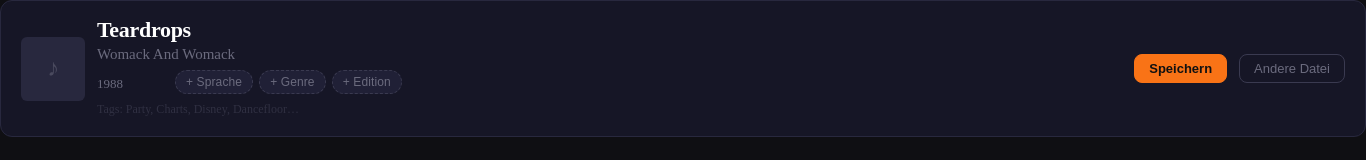
it: HeaderEditor › tooltips on tag editors (#10) › hides tooltip after mouse leaves
Hover over the element "+ Sprache" at (214, 82), box [175,70,253,94]
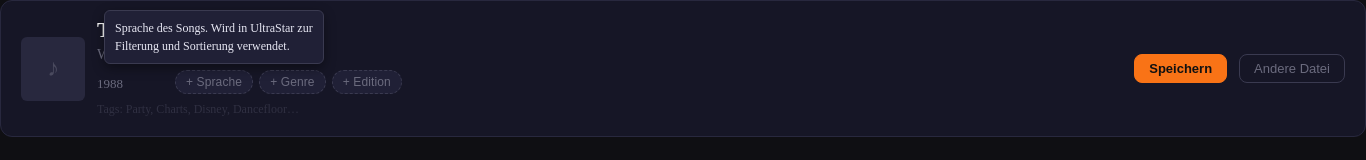
Result: the tooltip is shown at [104,10,324,64]
Move the pointer off the element "+ Sprache", box [175,70,253,94]
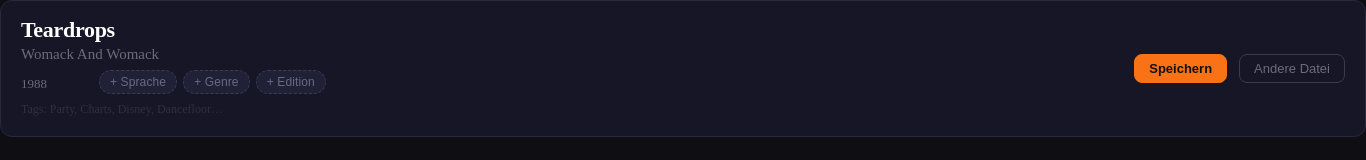
Result: the tooltip "Sprache des Songs. Wird in UltraStar zur Filterung und Sortierung verwendet." is gone
